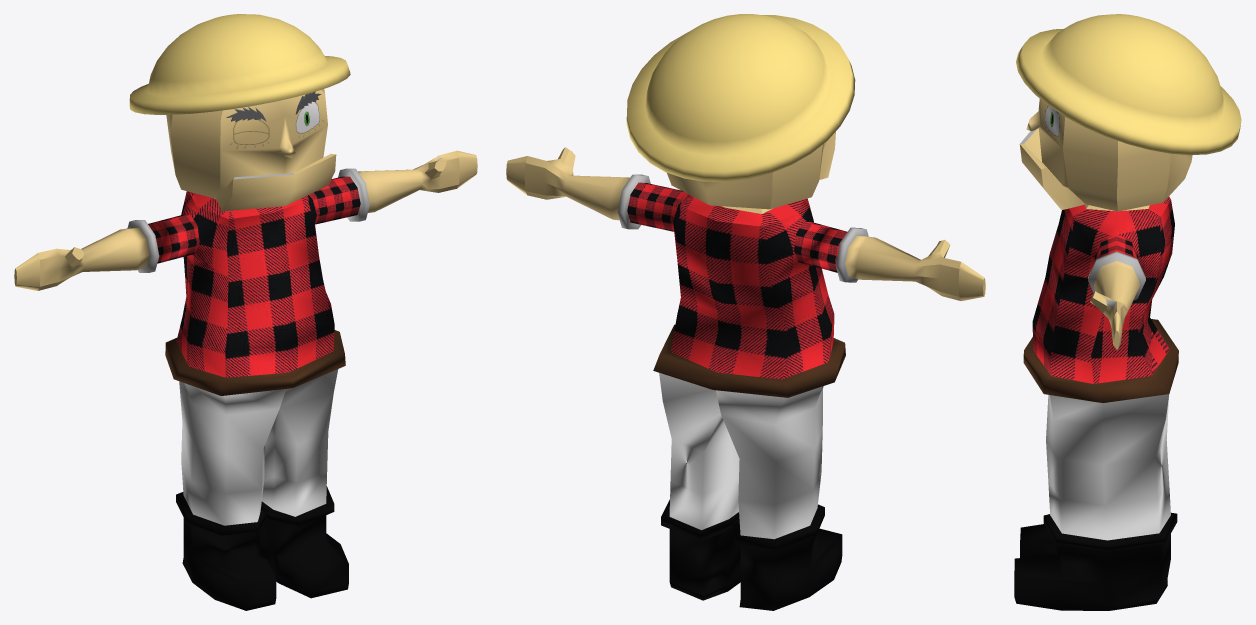
The model's file is GeezerMcgee3.0.fbx.
3 renders of one model, left to right at view 1: azimuth 30°, elevation 25°; view 2: azimuth 150°, elevation 25°; view 3: azimuth 270°, elevation 25°, orthographic. The views are drawn at different scales.
Visible parts, largest first — view 1: Plane.003; view 2: Plane.003; view 3: Plane.003.
Boxes of the visible parts, x1,y1,x2,y2 form: Plane.003: (14, 14, 477, 610); Plane.003: (506, 14, 985, 610); Plane.003: (1014, 14, 1241, 610).
Size of the model in its own units: 453 by 509 by 190.
